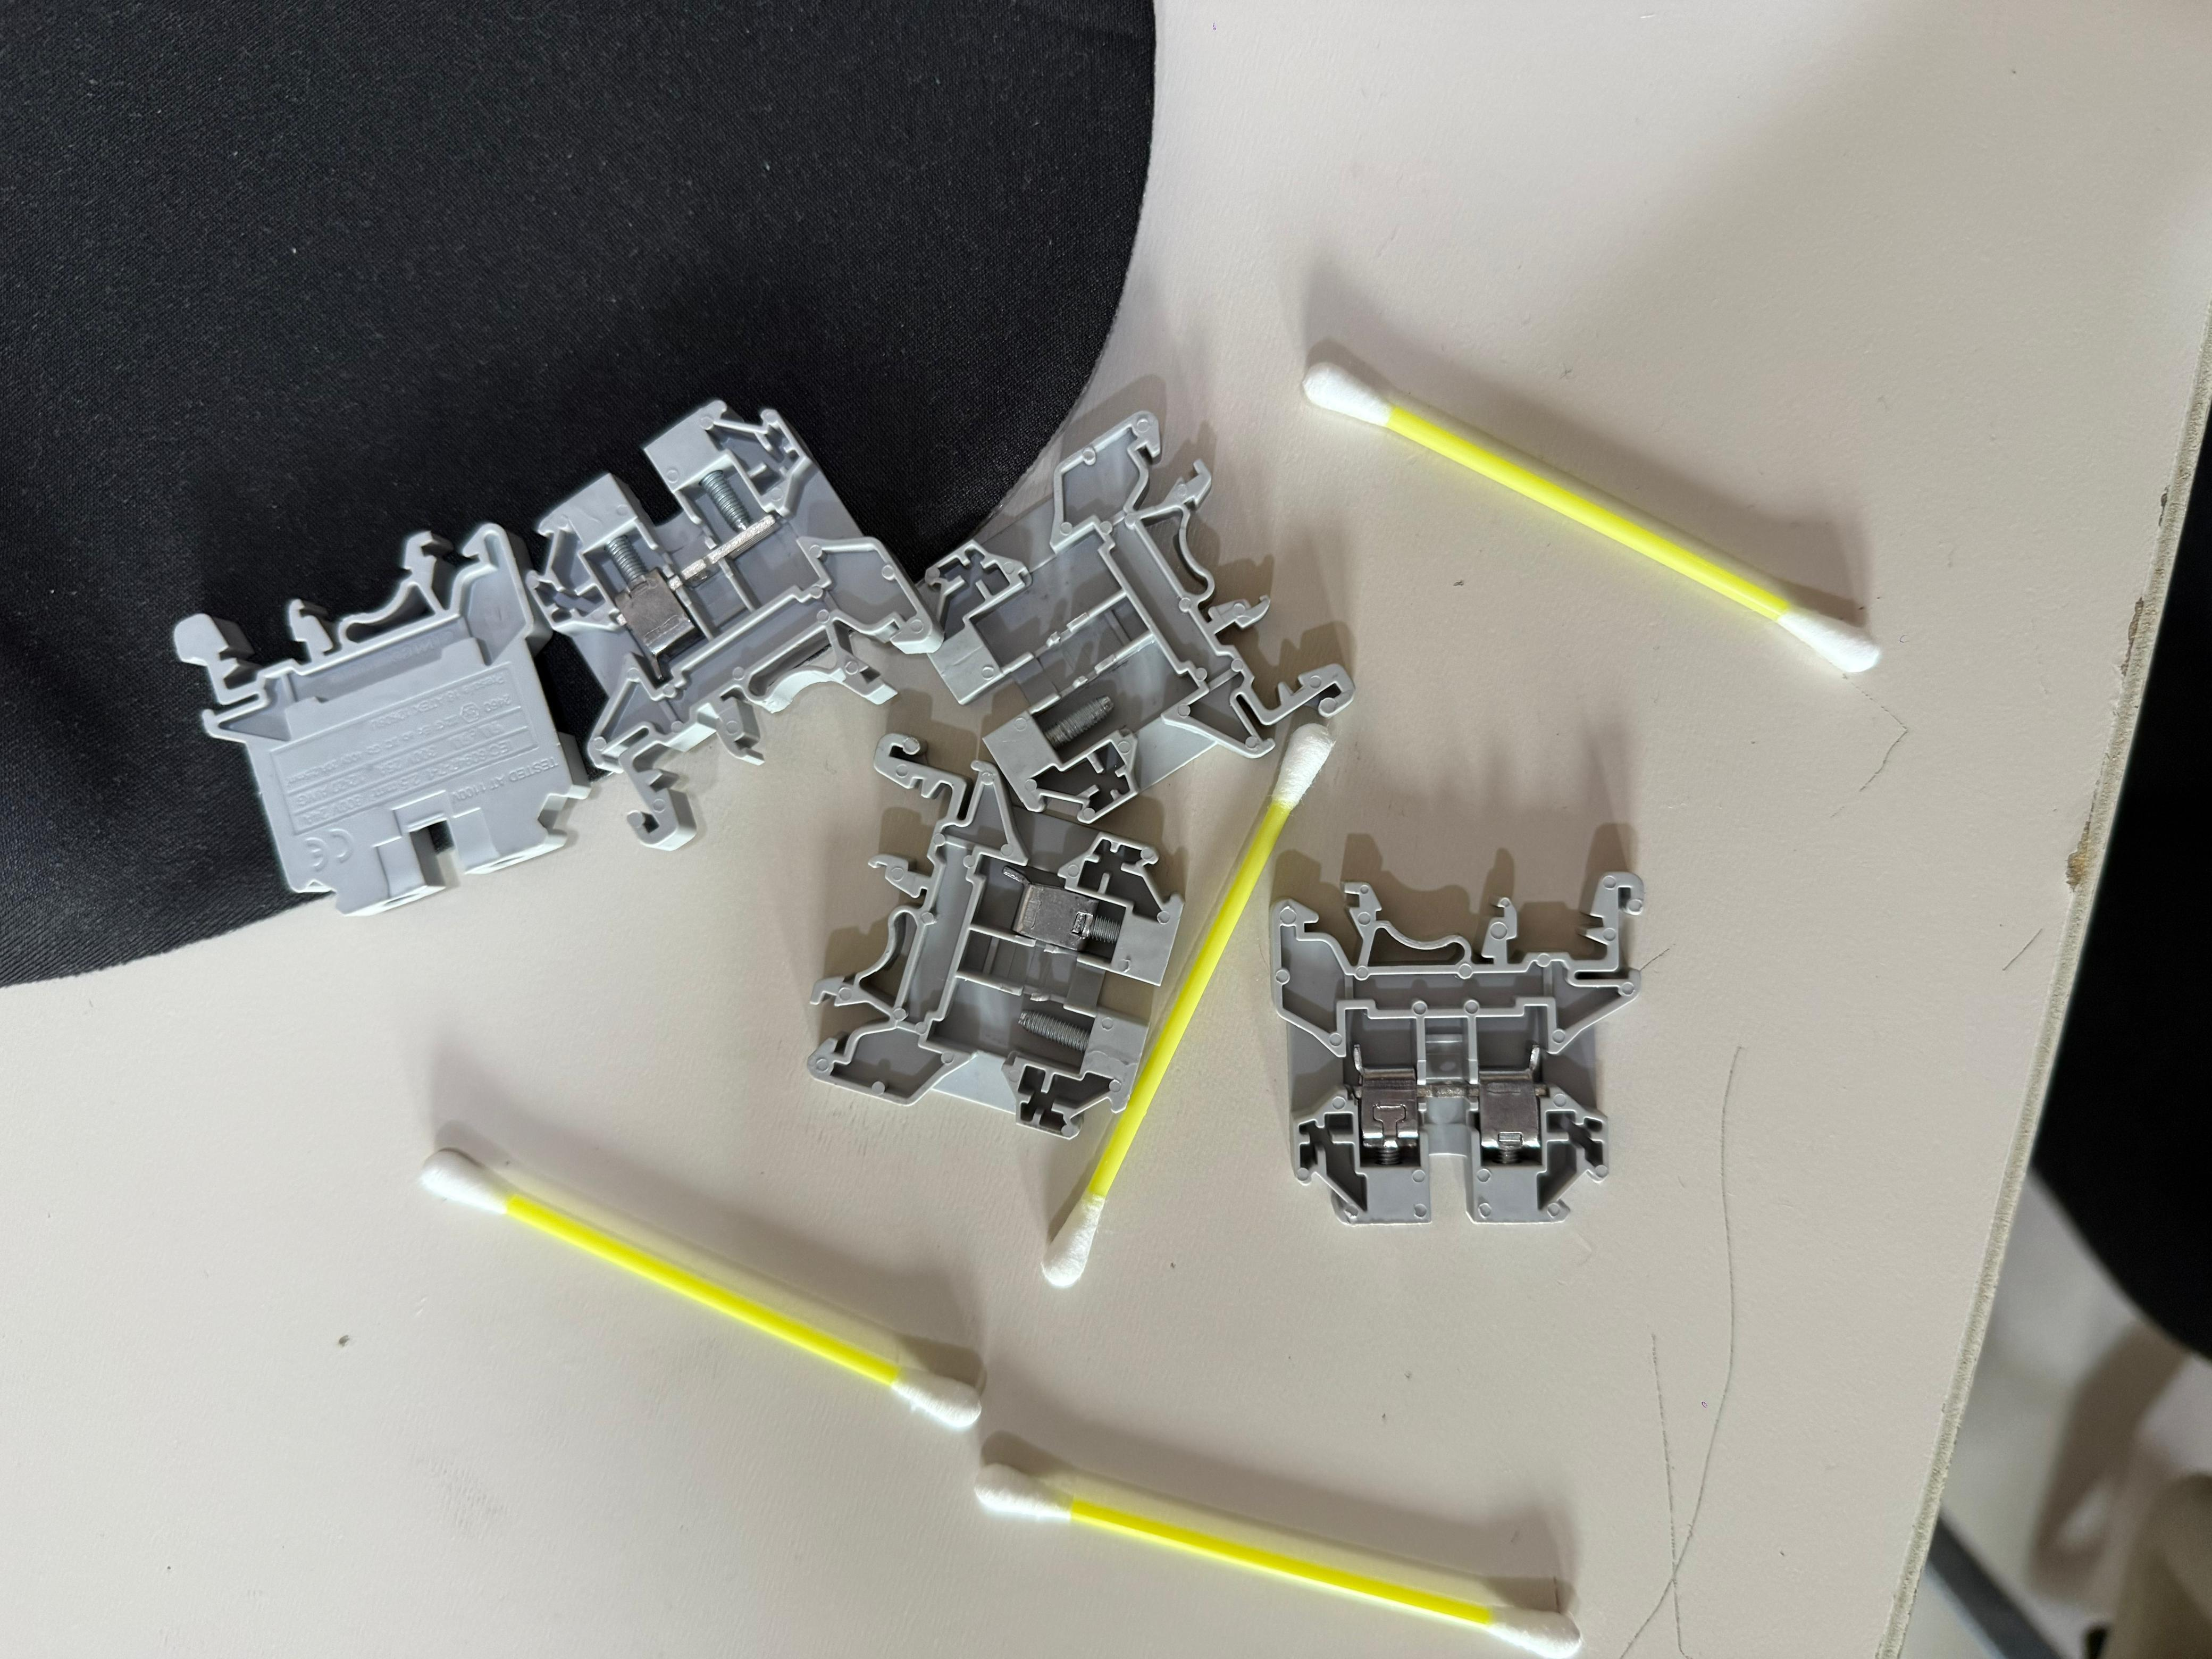Inverted: (152, 505, 611, 924)
Pass: (1266, 877, 1646, 1229)
Reject: (524, 373, 921, 847), (923, 410, 1359, 816), (806, 739, 1190, 1143)
